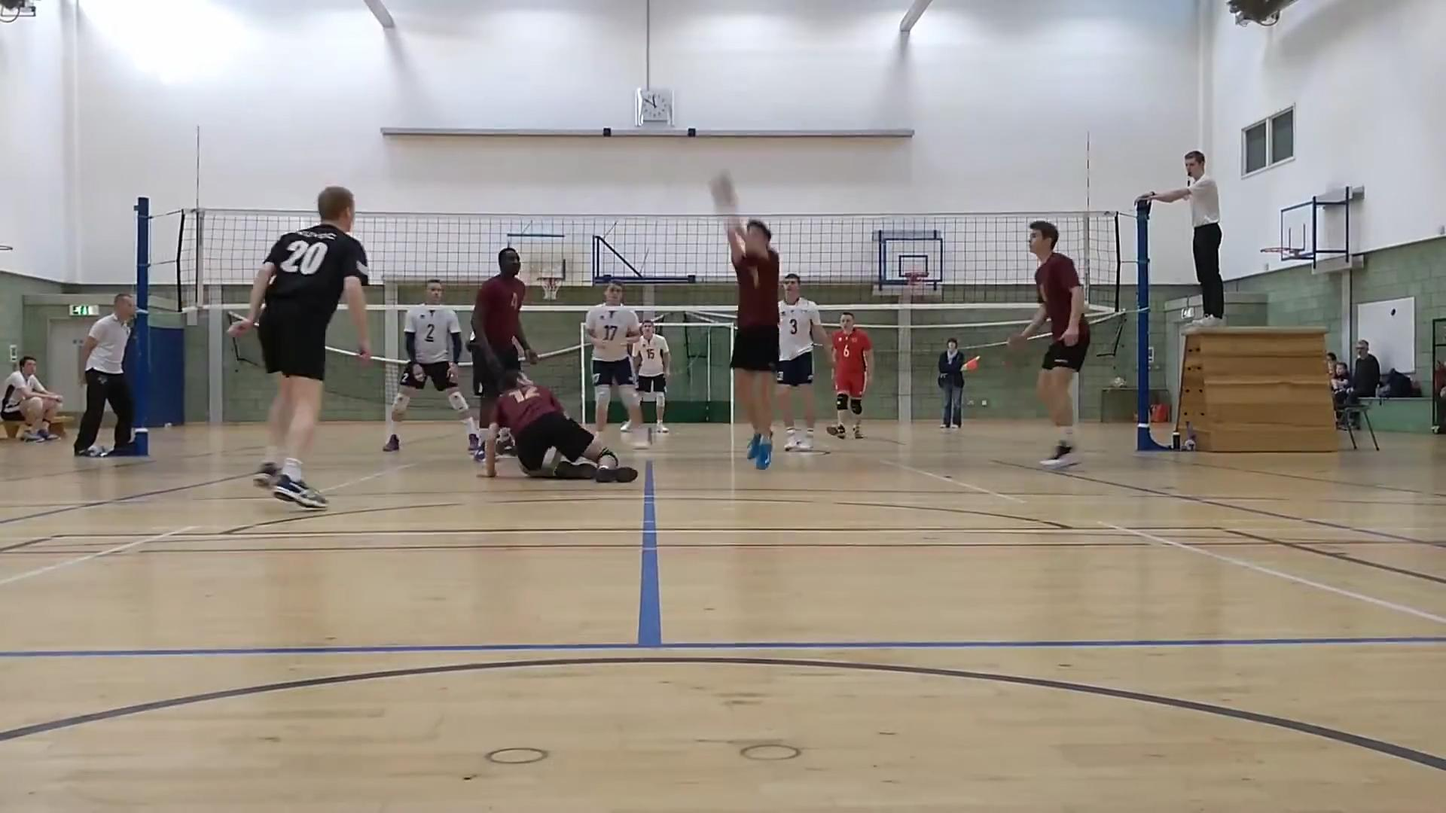Player: (229, 187, 370, 509), (1008, 221, 1089, 467), (484, 370, 637, 482), (383, 279, 479, 450), (470, 247, 538, 420), (584, 282, 646, 444), (776, 273, 828, 450), (828, 312, 872, 438), (632, 320, 670, 433)
Set: (721, 211, 783, 472)
